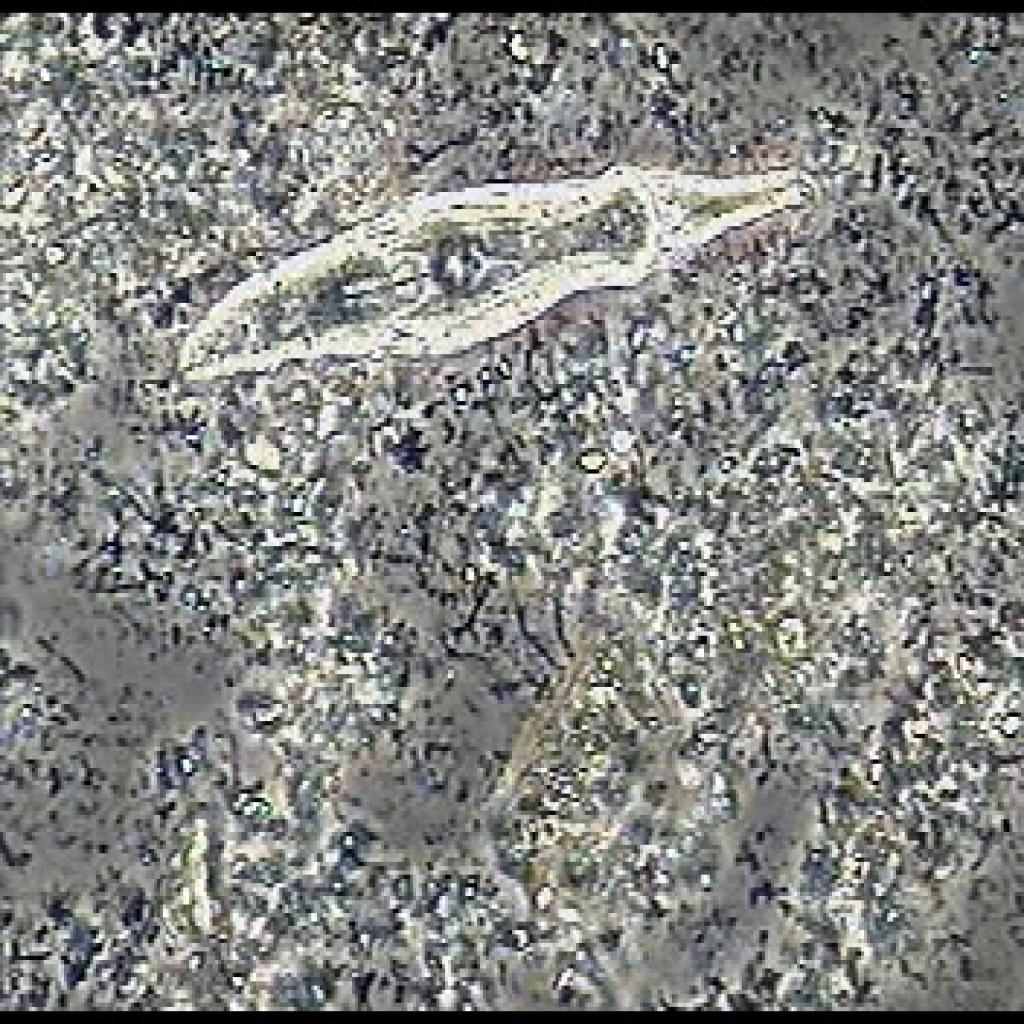Rotatoria: (140, 143, 838, 378)
